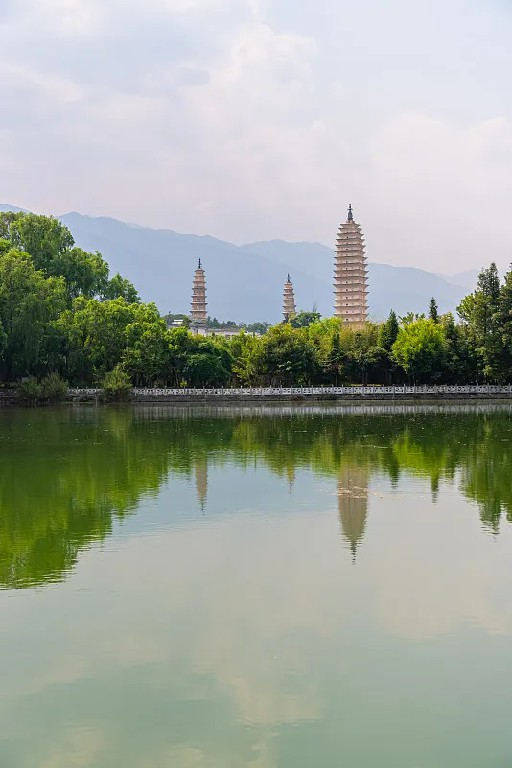ThreePagoda: (332, 204, 370, 324)
